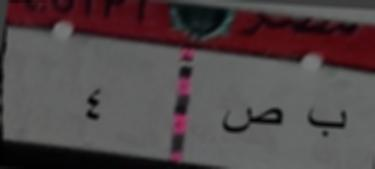4: (75, 85, 117, 130)
baa: (301, 100, 353, 143)
saad: (220, 98, 287, 146)
